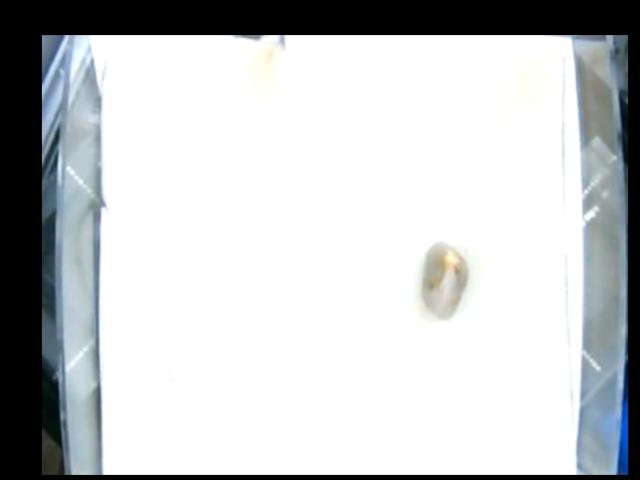Pebble: (423, 240, 467, 318)
